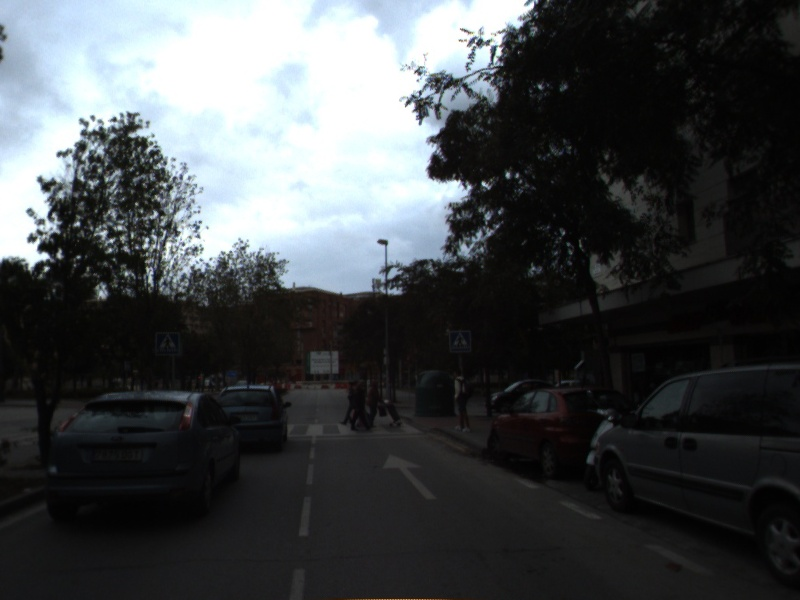STRAIGHT: (380, 451, 439, 501)
